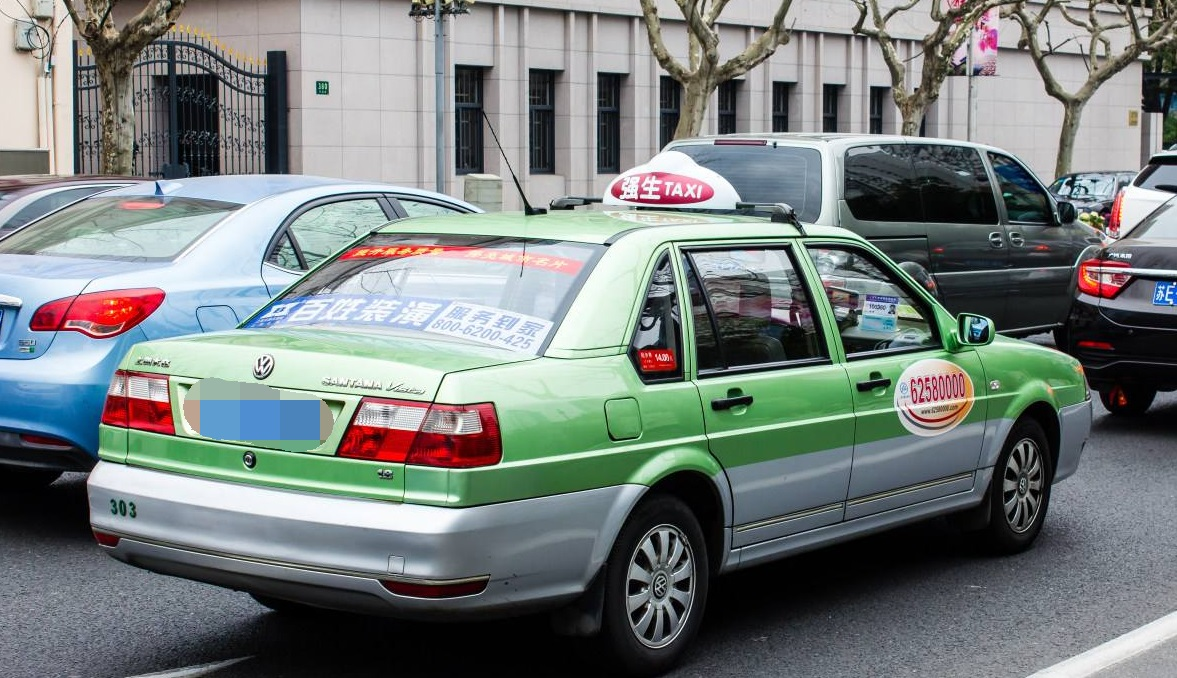taxi: (82, 150, 1096, 678)
